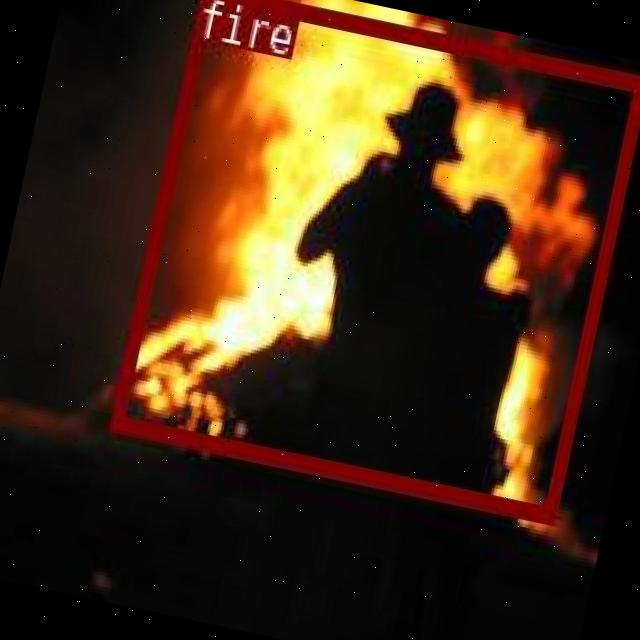fire: (108, 0, 640, 520)
